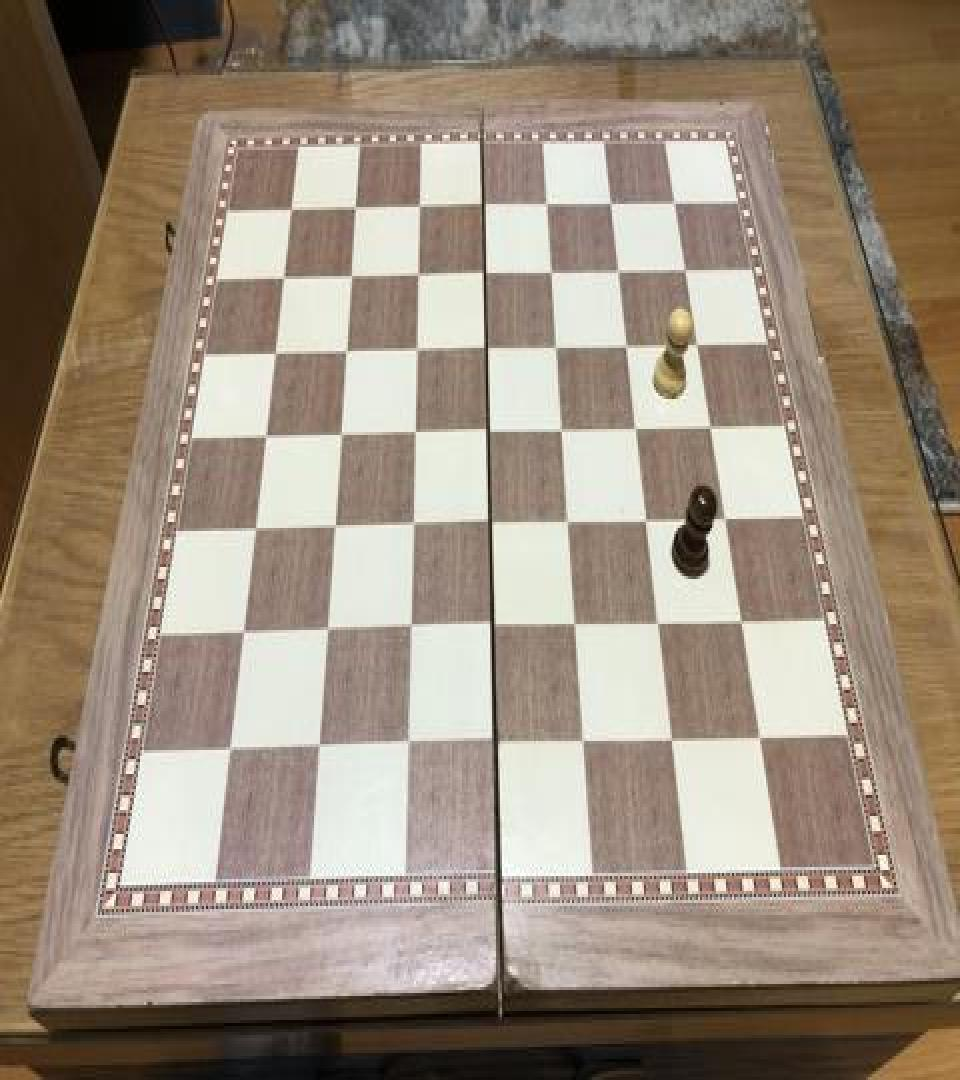xcorner: (481, 610, 505, 647), (483, 727, 507, 764), (665, 184, 689, 220), (601, 186, 625, 222), (537, 186, 561, 222), (409, 189, 433, 225), (345, 189, 369, 225), (281, 190, 305, 226), (676, 254, 700, 290), (609, 254, 633, 290), (542, 255, 566, 291), (475, 255, 499, 291), (407, 256, 431, 292), (340, 258, 364, 294), (273, 258, 297, 294), (687, 327, 711, 363), (547, 330, 571, 366), (476, 332, 500, 368), (405, 332, 429, 368), (335, 333, 359, 369), (264, 334, 288, 370), (700, 411, 724, 447), (478, 414, 502, 450), (403, 416, 427, 452), (329, 417, 353, 453), (254, 417, 278, 453), (715, 502, 739, 538), (636, 504, 660, 540), (558, 506, 582, 542), (479, 507, 503, 543), (401, 508, 425, 544), (322, 510, 346, 546), (243, 510, 267, 546), (731, 606, 755, 642), (648, 608, 672, 644), (564, 609, 588, 645), (398, 612, 422, 648), (314, 614, 338, 650), (231, 615, 255, 651), (749, 723, 773, 759), (660, 724, 684, 760), (572, 726, 596, 762), (395, 729, 419, 765), (306, 730, 330, 766), (217, 732, 241, 768), (473, 188, 497, 223), (617, 329, 641, 364), (626, 413, 650, 448), (552, 413, 576, 448)
